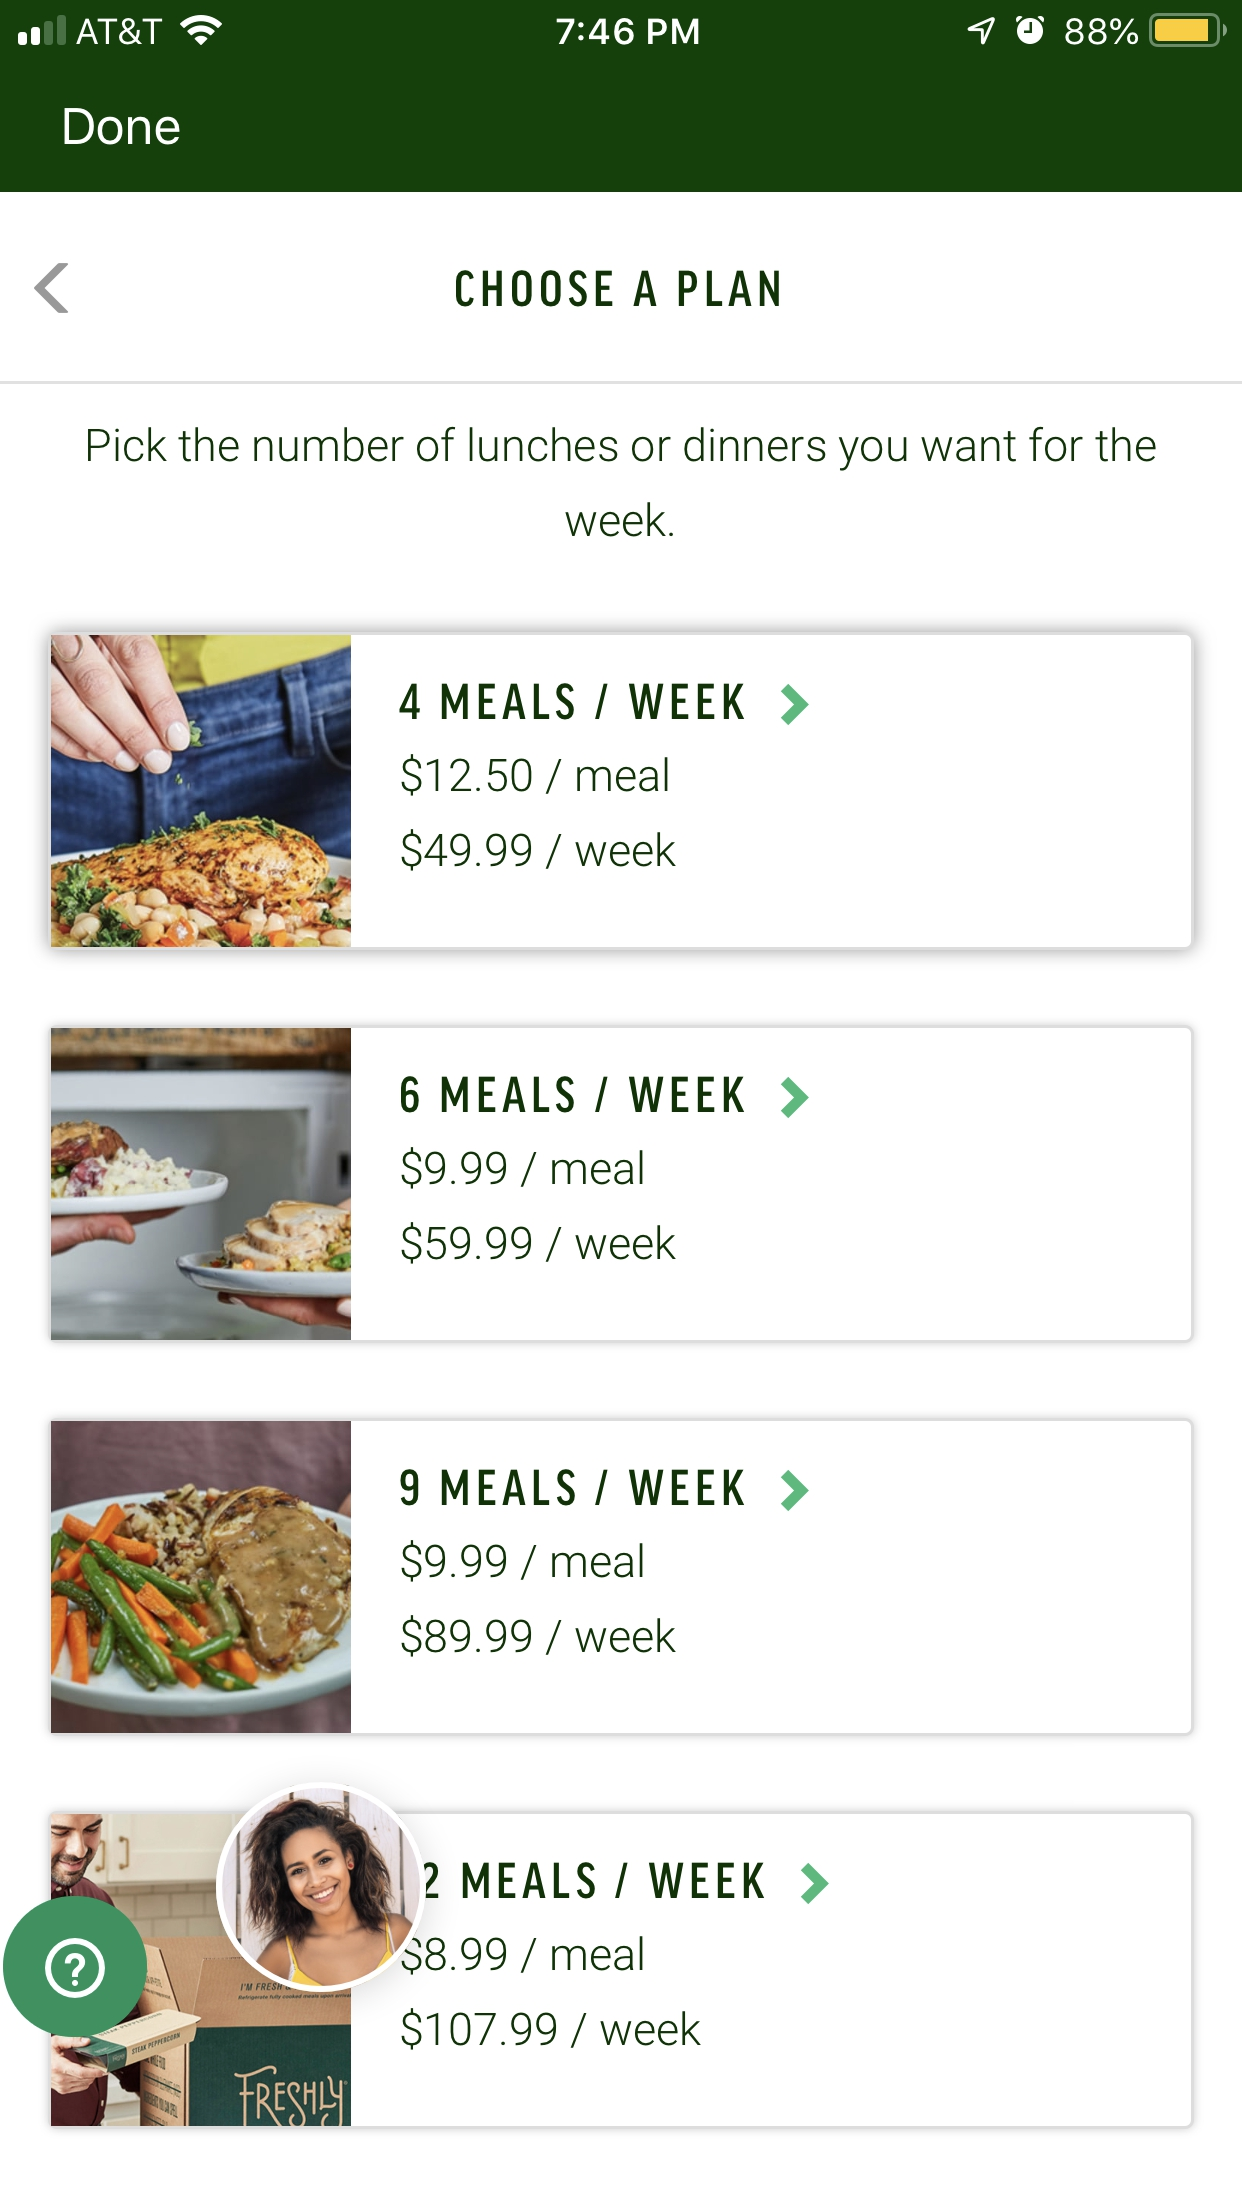Icon: (3, 1896, 149, 2037), (35, 262, 70, 314), (779, 682, 810, 726), (779, 1077, 810, 1119), (779, 1469, 810, 1512), (801, 1862, 830, 1905)
Image: (52, 1419, 352, 1733), (52, 635, 352, 948), (52, 1814, 352, 2126), (52, 1030, 352, 1341), (221, 1782, 428, 1993)
Text: (89, 428, 1157, 538), (400, 2006, 701, 2050), (399, 682, 745, 720), (400, 1077, 745, 1115), (400, 1469, 745, 1507), (425, 1861, 764, 1899), (456, 270, 779, 309), (400, 754, 669, 798), (400, 830, 676, 872), (400, 1222, 676, 1265), (400, 1615, 676, 1658), (400, 1146, 645, 1190), (400, 1541, 645, 1583), (400, 1937, 645, 1976), (64, 109, 180, 147)
UpperTaskBar: (2, 2, 1242, 49)
